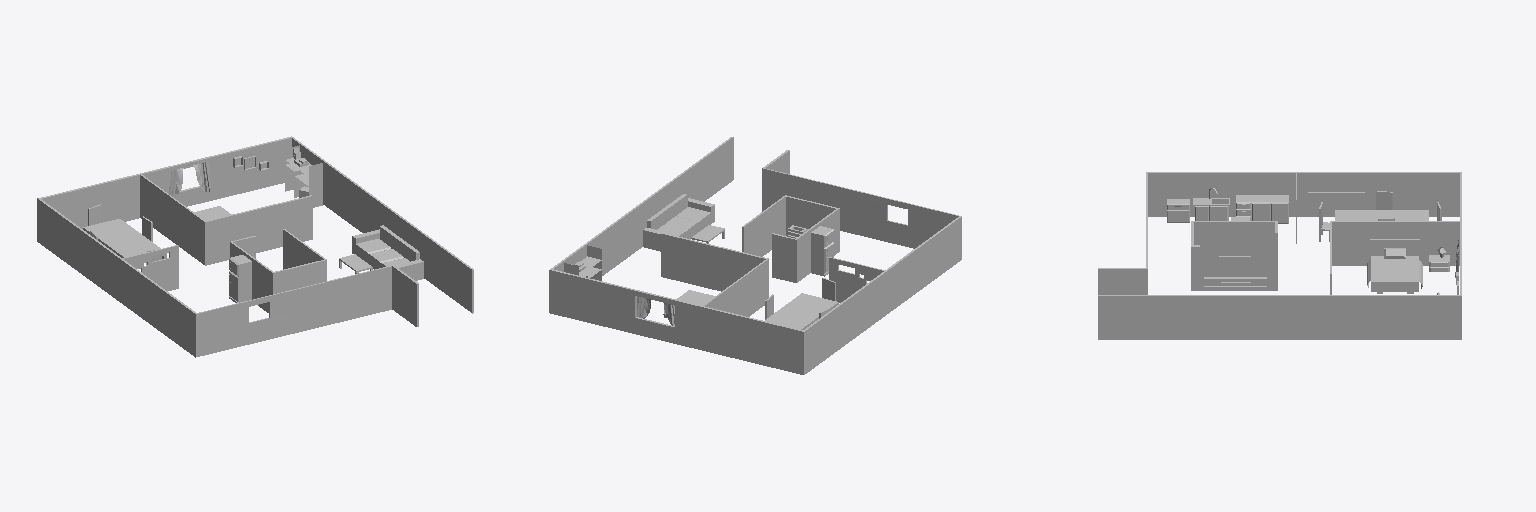
File: house1.obj
3 views of the same model, side by side, from view 1: azimuth 30°, elevation 25°; view 2: azimuth 150°, elevation 25°; view 3: azimuth 270°, elevation 25° (orthographic).
Visible parts, largest first — view 1: polySurface163; view 2: polySurface163; view 3: polySurface163.
Part boxes in pixels (left/top/right/bottom): polySurface163: left=37, top=136, right=473, bottom=357; polySurface163: left=549, top=137, right=961, bottom=374; polySurface163: left=1098, top=172, right=1461, bottom=339.
Bounding box in the file's own units: 153 × 25.01 × 189.